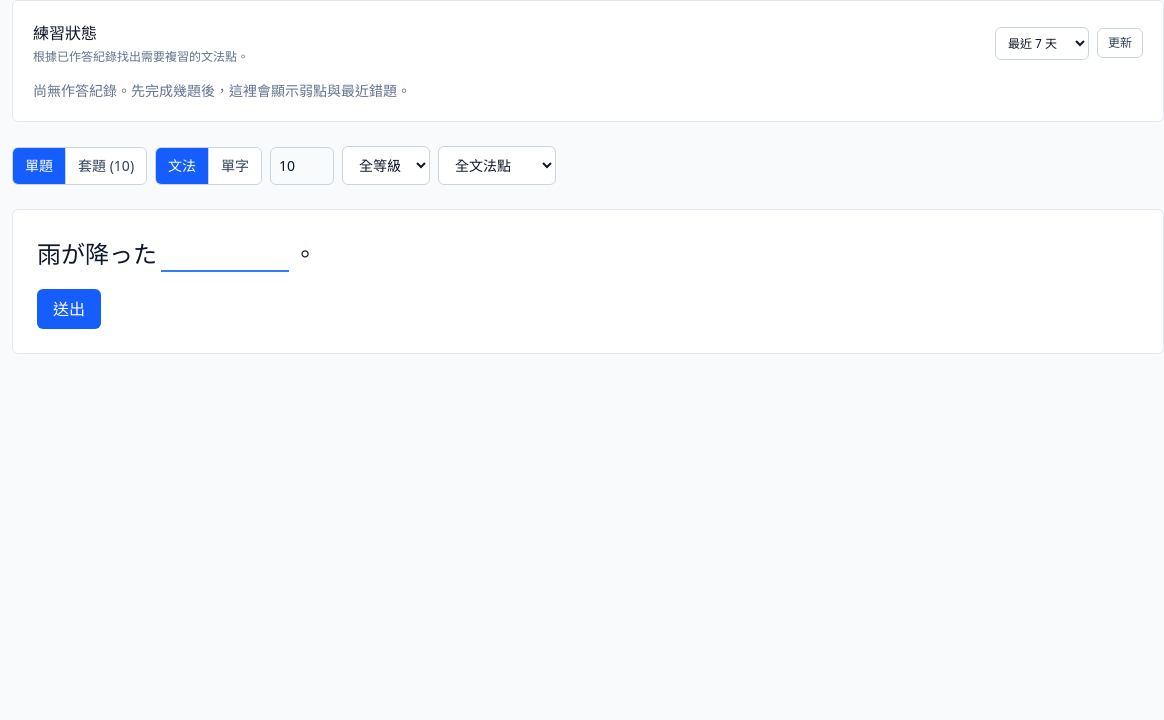
Test: QuizTab › shows Chinese grading explanation when globally enabled
The width and height of the screenshot is (1164, 720).
Expected: the text "雨が降った" is shown, [37, 237, 293, 270]
Type "はず" into the field at coordinates (225, 255), box [161, 238, 289, 272]
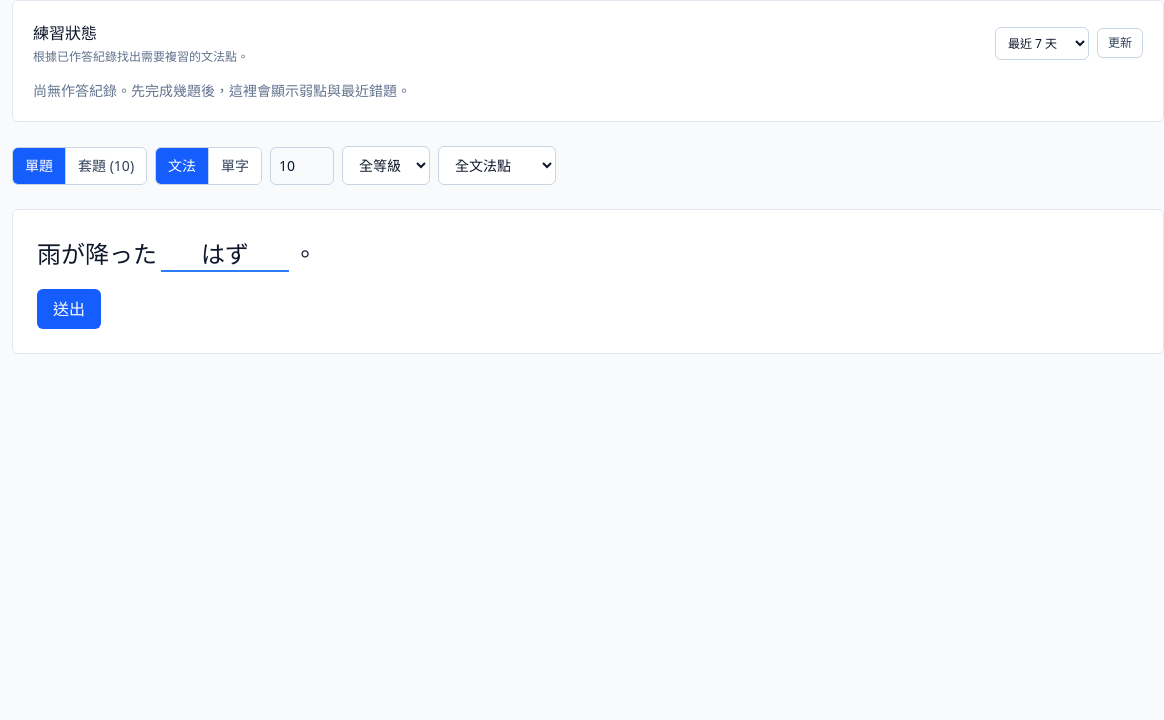
Click the button "送出" at coordinates (69, 309), box [37, 289, 101, 329]
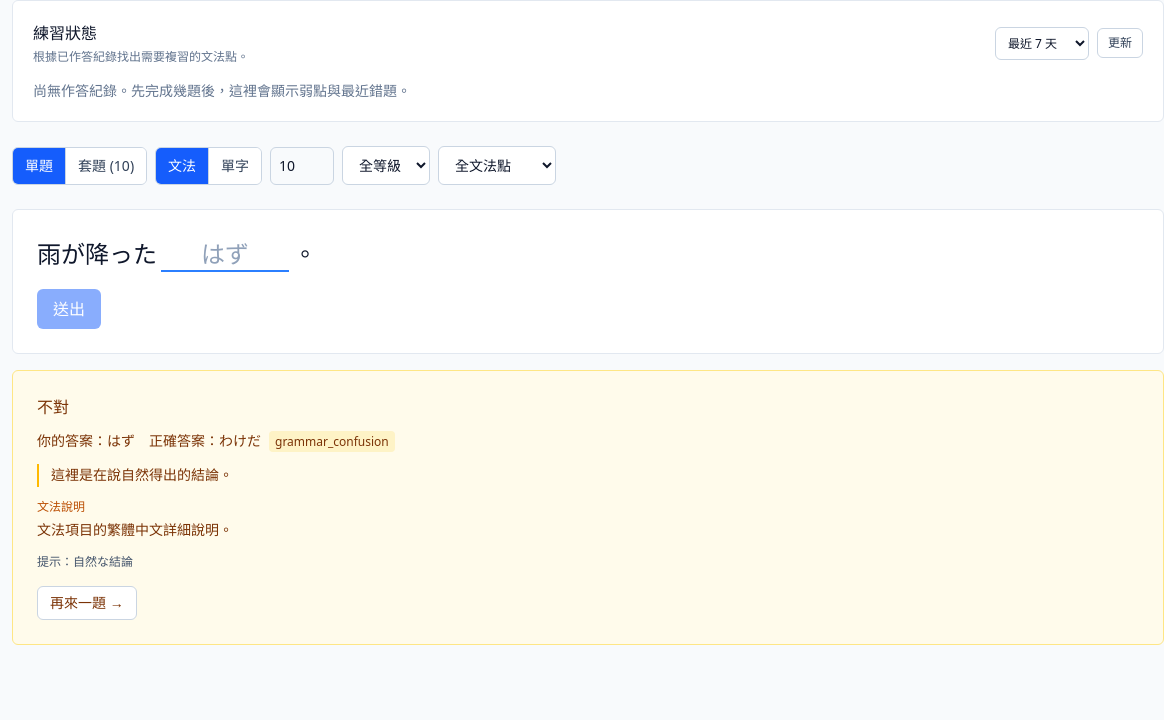
Now the text "不對" is shown, box [37, 396, 69, 418]
Now the text "這裡是在說自然得出的結論。" is shown, box [37, 464, 1139, 487]
